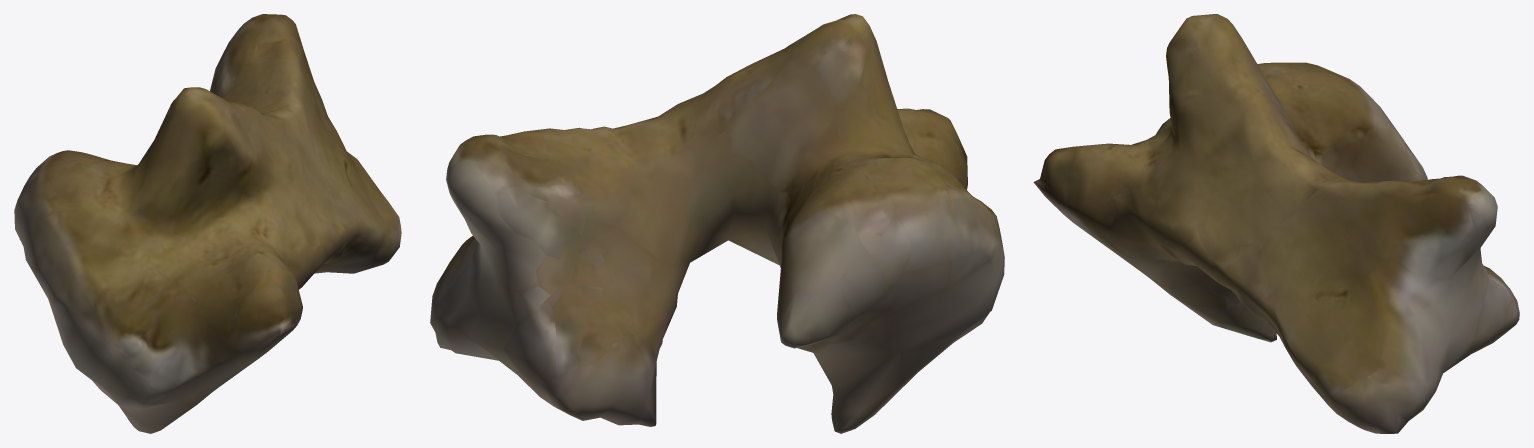
Rendered from hall.glb.
3 views of the same model, side by side, from view 1: azimuth 30°, elevation 25°; view 2: azimuth 150°, elevation 25°; view 3: azimuth 270°, elevation 25° (orthographic). The views are drawn at different scales.
Bounding box in the file's own units: 0.4345 × 0.3426 × 0.4435.
Materials: 1 (1 with a texture image).
